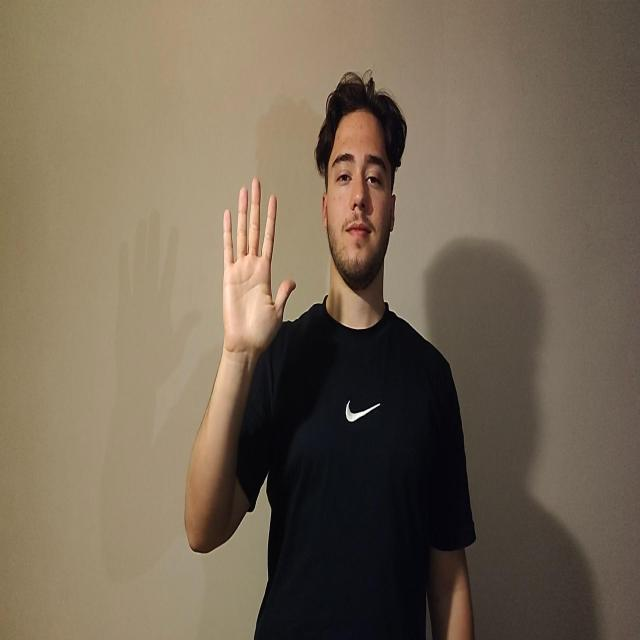hello: (221, 177, 296, 357)
